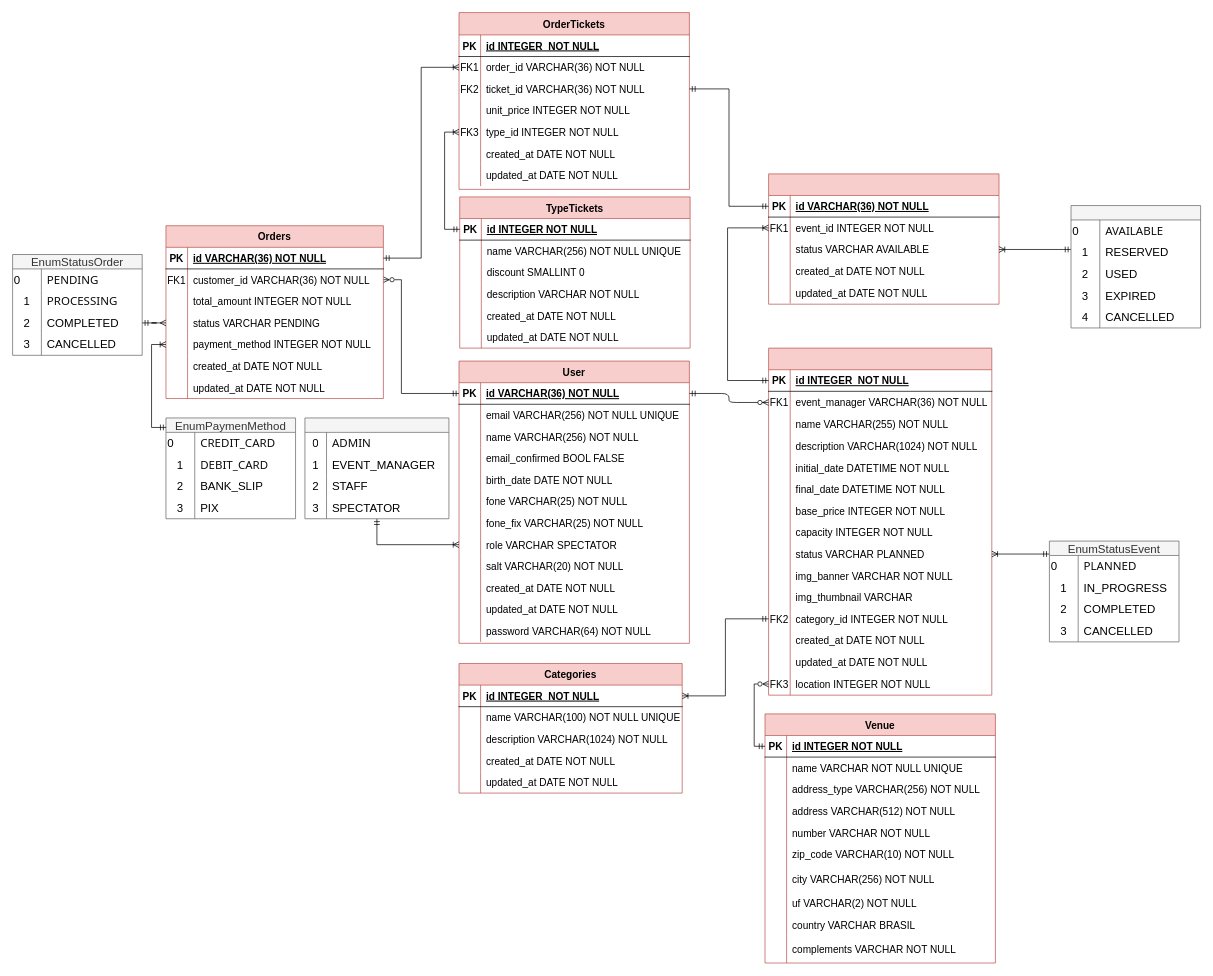
Some shapes in this 1213 by 976 pixel diagram are drawn without their labels. The box of each missing label's shape, as (x1, y1, x2, y2) in pixels:
EnumRoles: (304, 417, 449, 519)
EnumStatusTicket: (1070, 205, 1201, 328)
Events: (768, 347, 992, 695)
Tickets: (768, 173, 999, 304)
